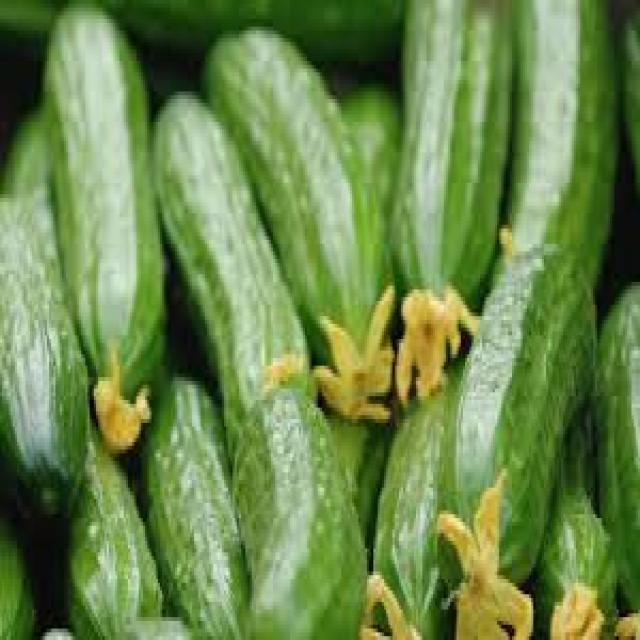cucumber: (212, 21, 394, 419), (433, 215, 594, 639), (135, 94, 308, 449), (40, 16, 182, 442), (372, 0, 500, 398), (497, 0, 625, 335), (147, 324, 276, 640), (222, 358, 348, 640), (0, 197, 102, 535), (354, 365, 458, 640), (579, 268, 640, 640), (55, 448, 170, 640)
